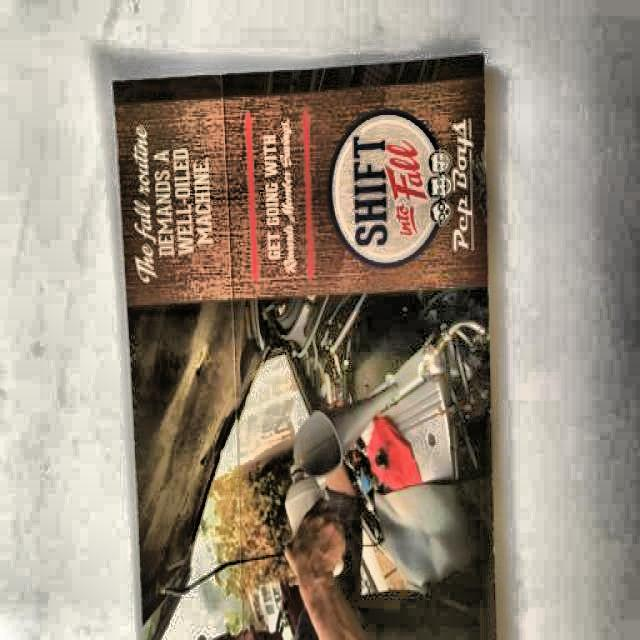Paper: (110, 52, 498, 638)
